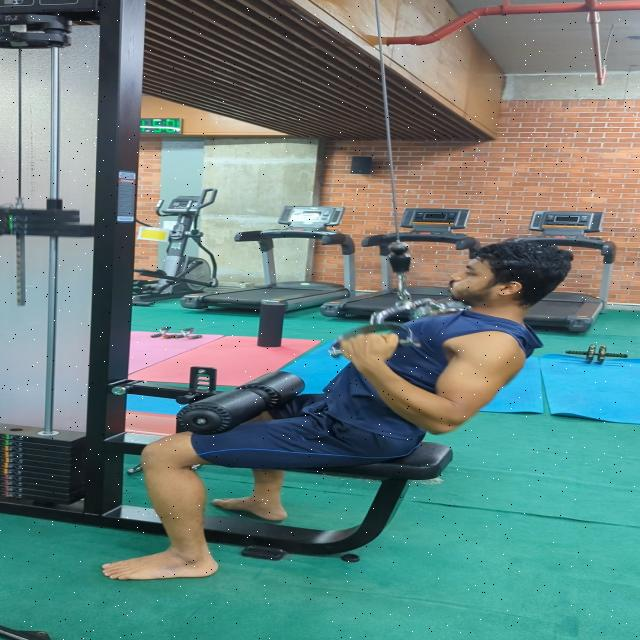Normal_LatPulldown: (71, 218, 593, 597)
